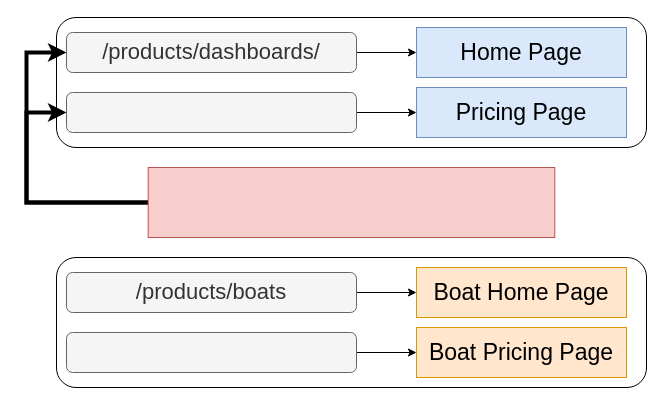
Some shapes in this 664 by 405 pixel diagram are drawn without their labels. Each missing label, with the centre of its shape:
/products/boats/pricing: point (211, 352)
/products/dashboards/pricing: point (211, 112)
Need to update our dashboard marketing project URL's: point (351, 202)
